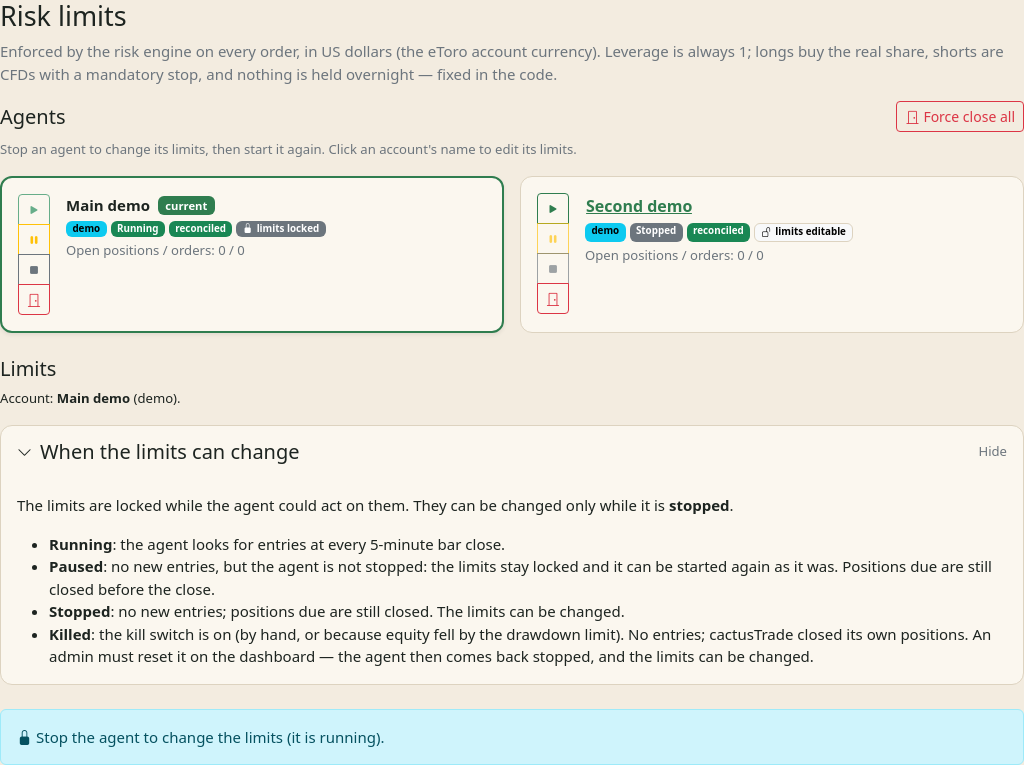
it: RiskLimits agents (R23) › switches the current account when a card's name is clicked
Click the button "Second demo" at (639,206), box [585,193,693,219]
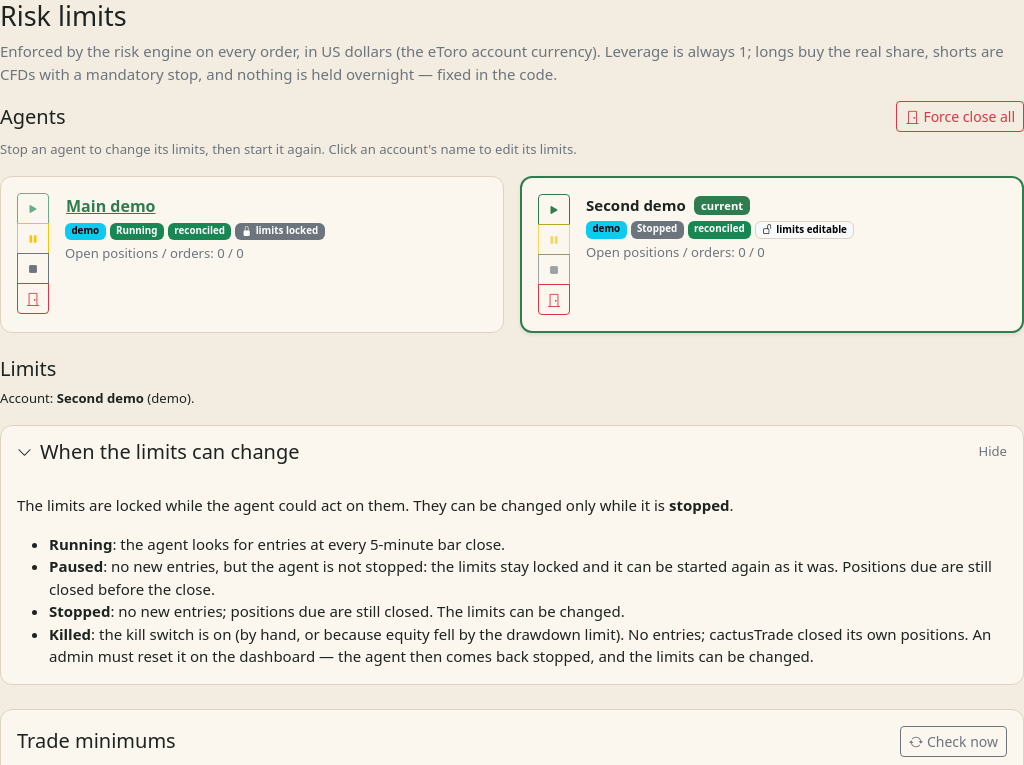
Expected: the text "Second demo" next to "Account:" is shown, [57,389,144,407]
